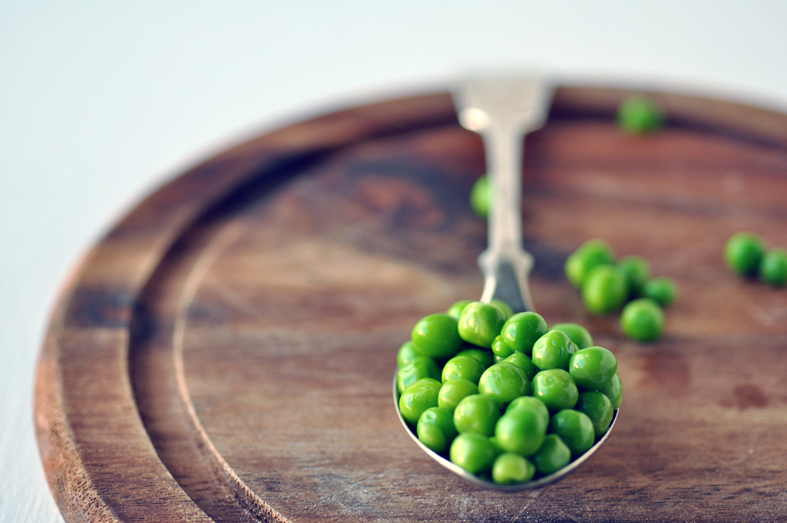boiled peas: (439, 311, 561, 463)
